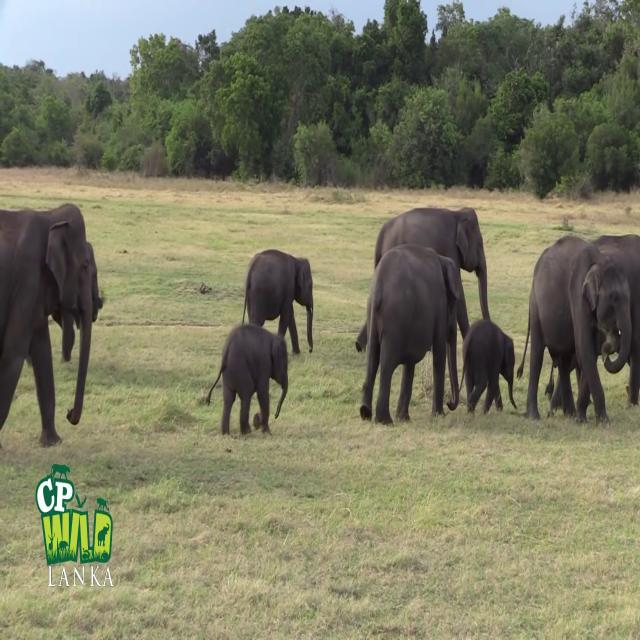Elephant: (0, 201, 103, 448), (516, 232, 639, 426), (355, 242, 460, 424), (374, 205, 491, 347), (206, 322, 288, 436), (242, 248, 313, 355), (458, 318, 517, 415)
